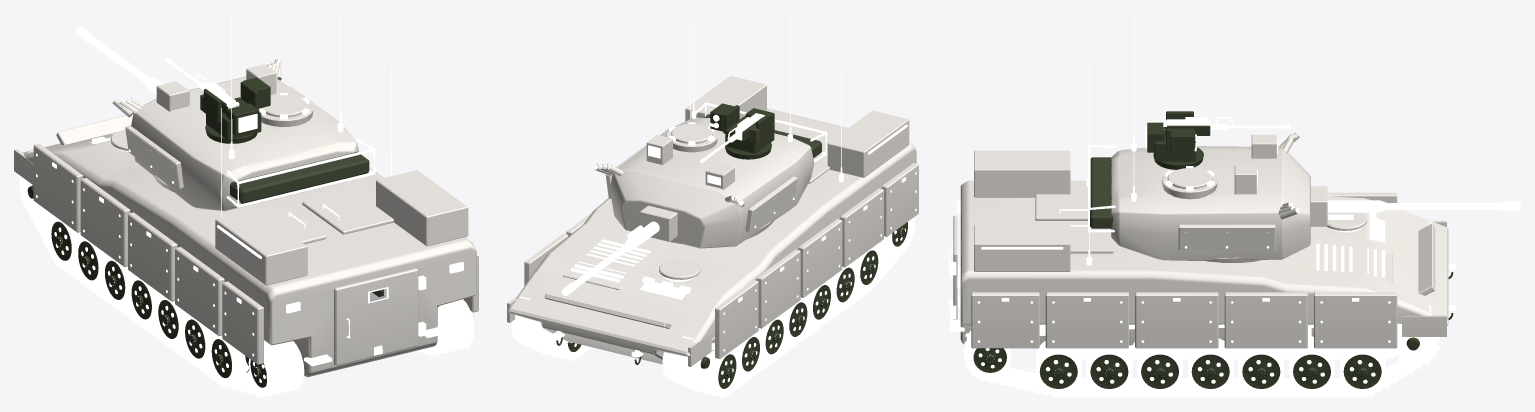
3 renders of one model, left to right at view 1: azimuth 30°, elevation 25°; view 2: azimuth 150°, elevation 25°; view 3: azimuth 270°, elevation 25°, orthographic. The views are drawn at different scales.
Visible parts, largest first — view 1: Body_LOD0, Turret_LOD0, Door_Rear_LOD0, Track_L_LOD0, RWS_LOD0, Hatch_R_LOD0, Track_R_LOD0, RoadWheel_L7_LOD0, RWS_Gun_LOD0, Hatch_L_LOD0, RoadWheel_L1_LOD0, RoadWheel_L5_LOD0 (+7 smaller); view 2: Body_LOD0, Turret_LOD0, Track_L_LOD0, Gun_LOD0, RWS_LOD0, Track_R_LOD0, RWS_Gun_LOD0, RoadWheel_L1_LOD0, RoadWheel_L3_LOD0, RoadWheel_L4_LOD0, RoadWheel_L2_LOD0, RoadWheel_L5_LOD0 (+6 smaller); view 3: Body_LOD0, Turret_LOD0, Track_R_LOD0, Gun_LOD0, RoadWheel_R4_LOD0, RoadWheel_R7_LOD0, RoadWheel_R2_LOD0, RoadWheel_R6_LOD0, RoadWheel_R3_LOD0, RoadWheel_R1_LOD0, RoadWheel_R5_LOD0, RWS_Gun_LOD0 (+8 smaller).
Boxes of the visible parts, <box> form: Body_LOD0: <box>14,66,478,377</box>; Turret_LOD0: <box>112,14,375,211</box>; Door_Rear_LOD0: <box>334,268,426,365</box>; Track_L_LOD0: <box>19,176,304,397</box>; RWS_LOD0: <box>203,81,261,143</box>; Hatch_R_LOD0: <box>302,189,393,234</box>; Track_R_LOD0: <box>416,299,474,356</box>; RoadWheel_L7_LOD0: <box>210,335,250,382</box>; RWS_Gun_LOD0: <box>165,58,270,114</box>; Hatch_L_LOD0: <box>261,206,326,244</box>; RoadWheel_L1_LOD0: <box>49,217,82,264</box>; RoadWheel_L5_LOD0: <box>156,296,189,342</box>; Body_LOD0: <box>507,30,918,366</box>; Turret_LOD0: <box>594,14,827,248</box>; Track_L_LOD0: <box>662,217,914,397</box>; Gun_LOD0: <box>561,205,677,295</box>; RWS_LOD0: <box>723,105,774,159</box>; Track_R_LOD0: <box>512,315,592,360</box>; RWS_Gun_LOD0: <box>700,103,765,162</box>; RoadWheel_L1_LOD0: <box>705,346,737,392</box>; RoadWheel_L3_LOD0: <box>756,316,785,357</box>; RoadWheel_L4_LOD0: <box>779,298,808,340</box>; RoadWheel_L2_LOD0: <box>714,333,761,375</box>; RoadWheel_L5_LOD0: <box>802,281,832,323</box>; Body_LOD0: <box>947,63,1455,359</box>; Turret_LOD0: <box>1088,14,1310,262</box>; Track_R_LOD0: <box>963,323,1439,397</box>; Gun_LOD0: <box>1310,186,1520,226</box>; RoadWheel_R4_LOD0: <box>1187,338,1233,392</box>; RoadWheel_R7_LOD0: <box>1035,341,1081,392</box>; RoadWheel_R2_LOD0: <box>1289,337,1334,392</box>; RoadWheel_R6_LOD0: <box>1086,347,1132,392</box>; RoadWheel_R3_LOD0: <box>1238,348,1284,392</box>; RoadWheel_R1_LOD0: <box>1339,348,1385,392</box>; RoadWheel_R5_LOD0: <box>1137,348,1182,392</box>; RWS_Gun_LOD0: <box>1163,117,1290,154</box>.
Size of what is drawn, in the model's own units: 3.29 by 4.64 by 7.69.
